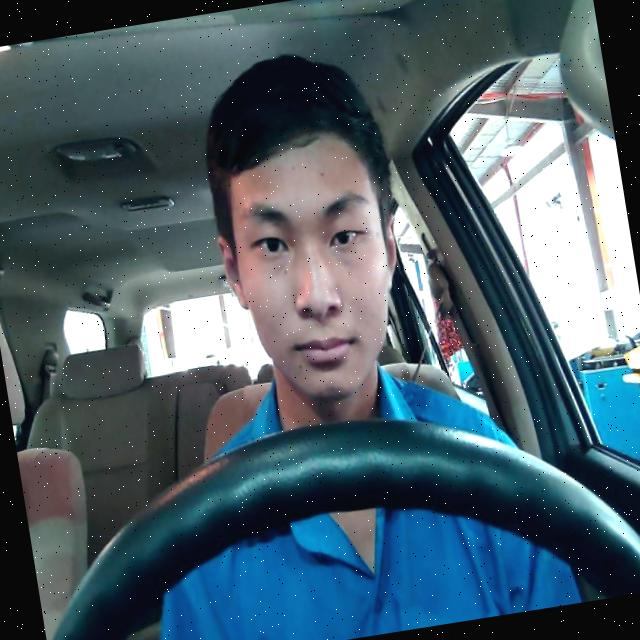focused: (201, 120, 420, 418)
